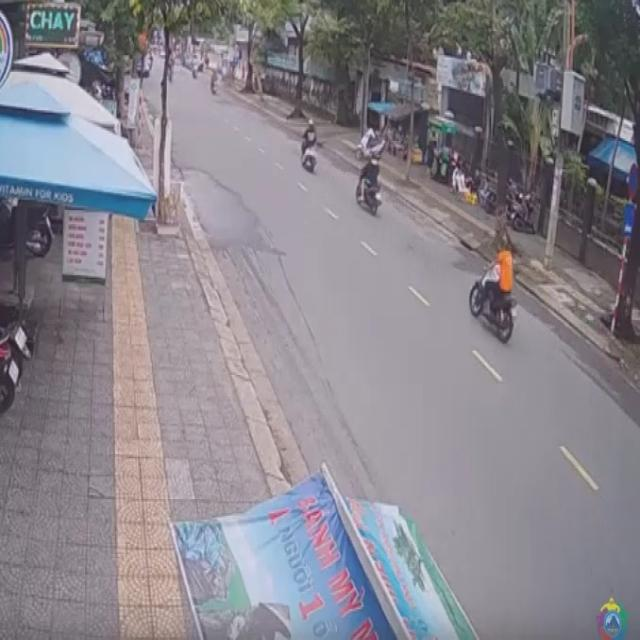motorbike: (470, 239, 516, 343), (354, 151, 384, 217), (300, 121, 318, 171)
